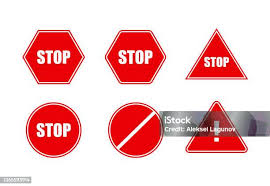stop sign: (22, 29, 85, 84), (104, 30, 166, 85), (185, 29, 247, 80), (26, 102, 81, 158)
